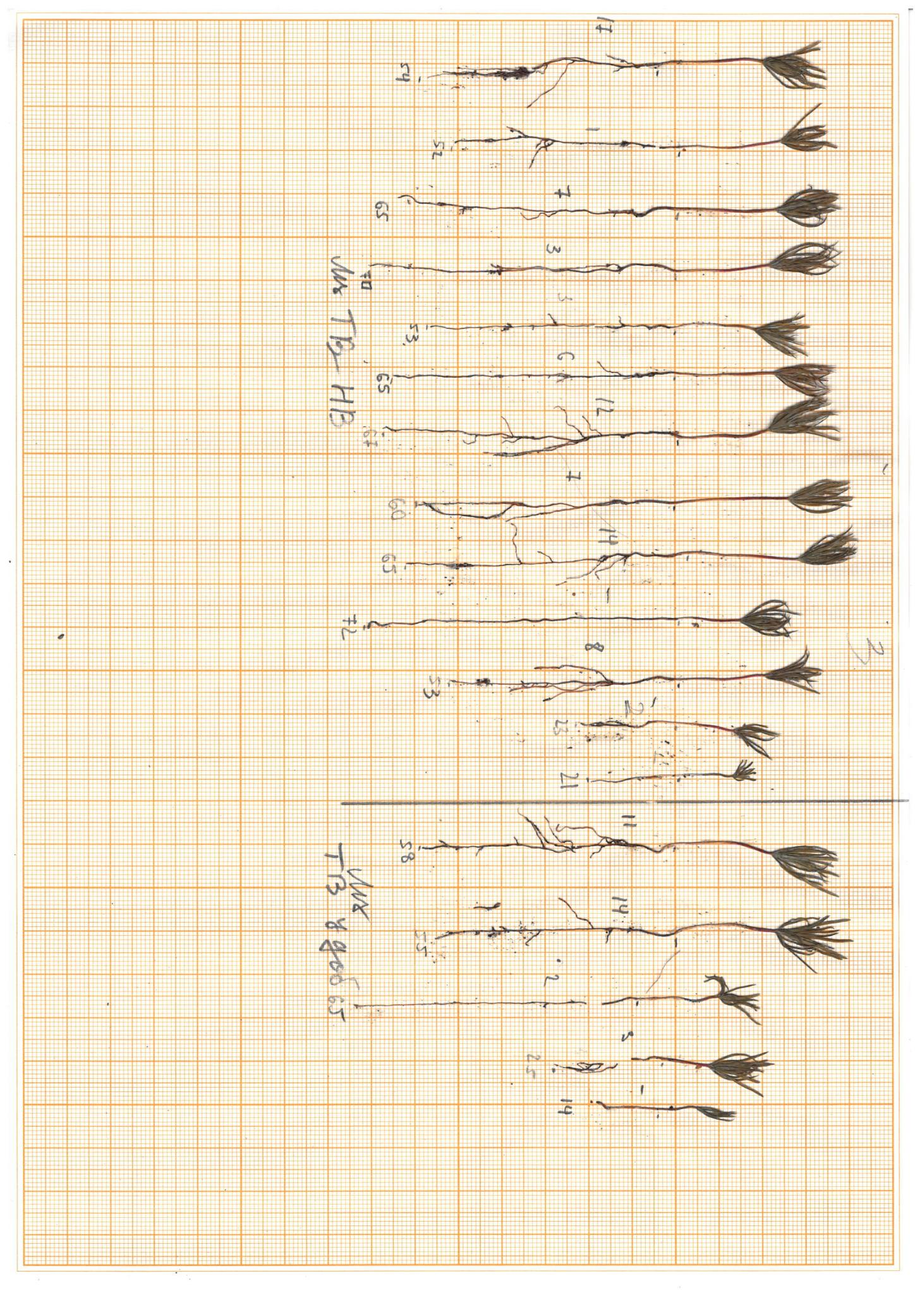Seeding: (415, 808, 844, 899), (376, 395, 849, 460), (432, 902, 854, 971), (403, 523, 862, 581), (424, 35, 834, 99), (447, 105, 843, 169), (355, 970, 765, 1029), (448, 642, 826, 705), (393, 182, 845, 234), (418, 477, 856, 526), (362, 594, 803, 641), (425, 310, 814, 362), (388, 359, 835, 402), (367, 240, 847, 279), (554, 1046, 775, 1091), (581, 715, 787, 759), (589, 758, 761, 786), (588, 1098, 740, 1126)
